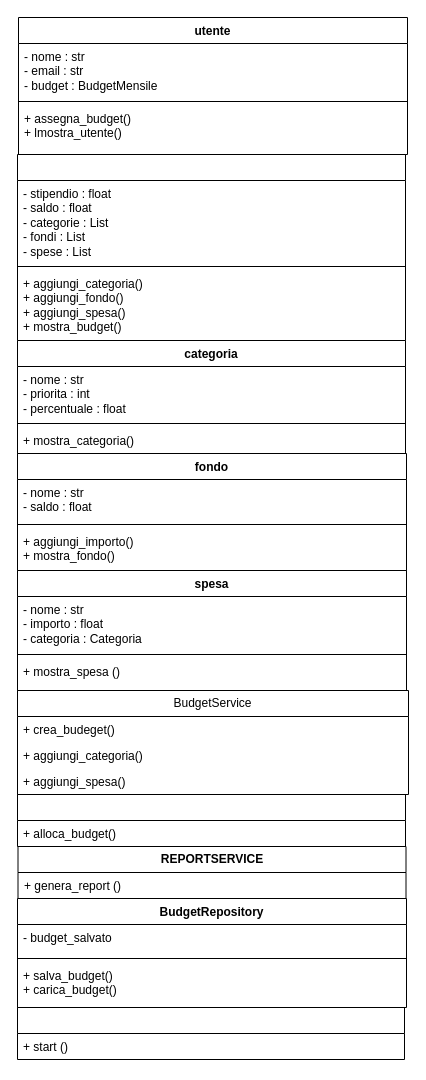
The diagram is 426 pixels wide and 1080 high, and some of its shapes have lost their labels. Each missing label, with the box of its shape:
AllocazioneService: (16, 794, 406, 846)
APPCONTROLLER: (16, 1006, 404, 1060)
BudgetMensile: (16, 154, 406, 340)
